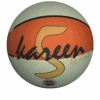basketball: (6, 1, 94, 89)
